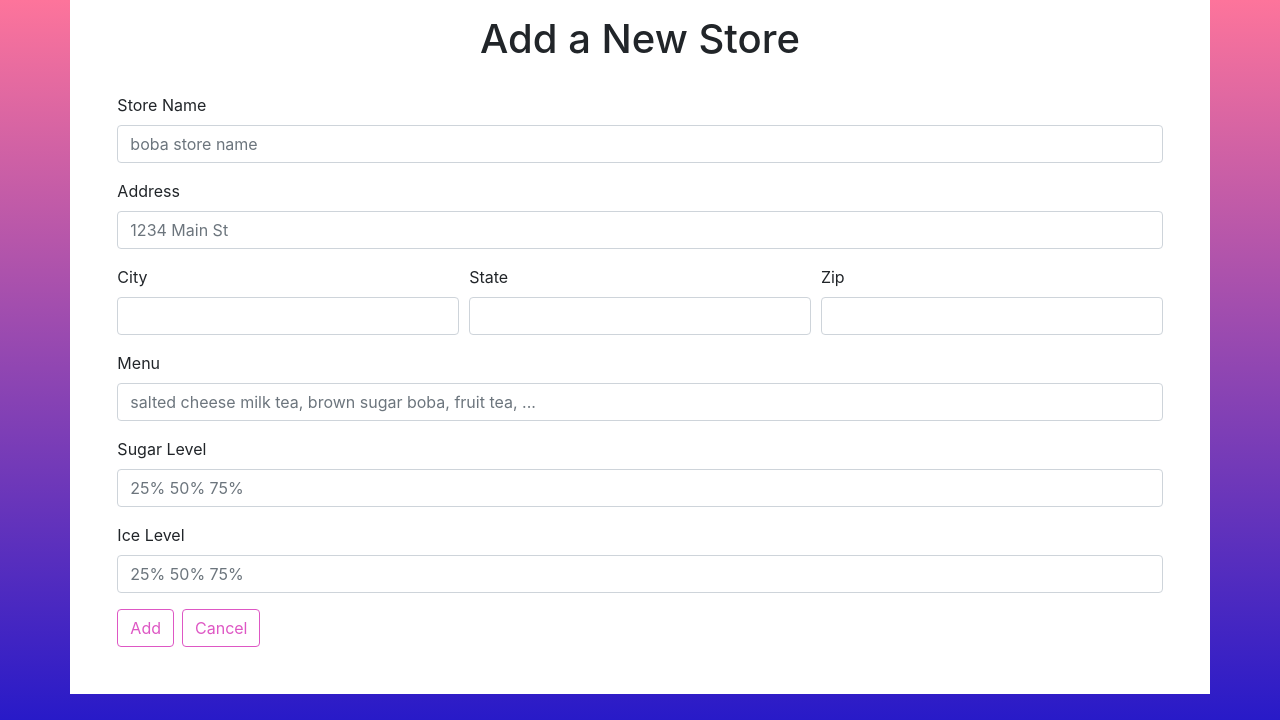
Test case: Testing Add a New Store Page › Not submitting form with invalid inputs › zip is empty
(page scrolled)
Click the link with class "storeAddButton" at (146, 628), box [117,609,174,647]
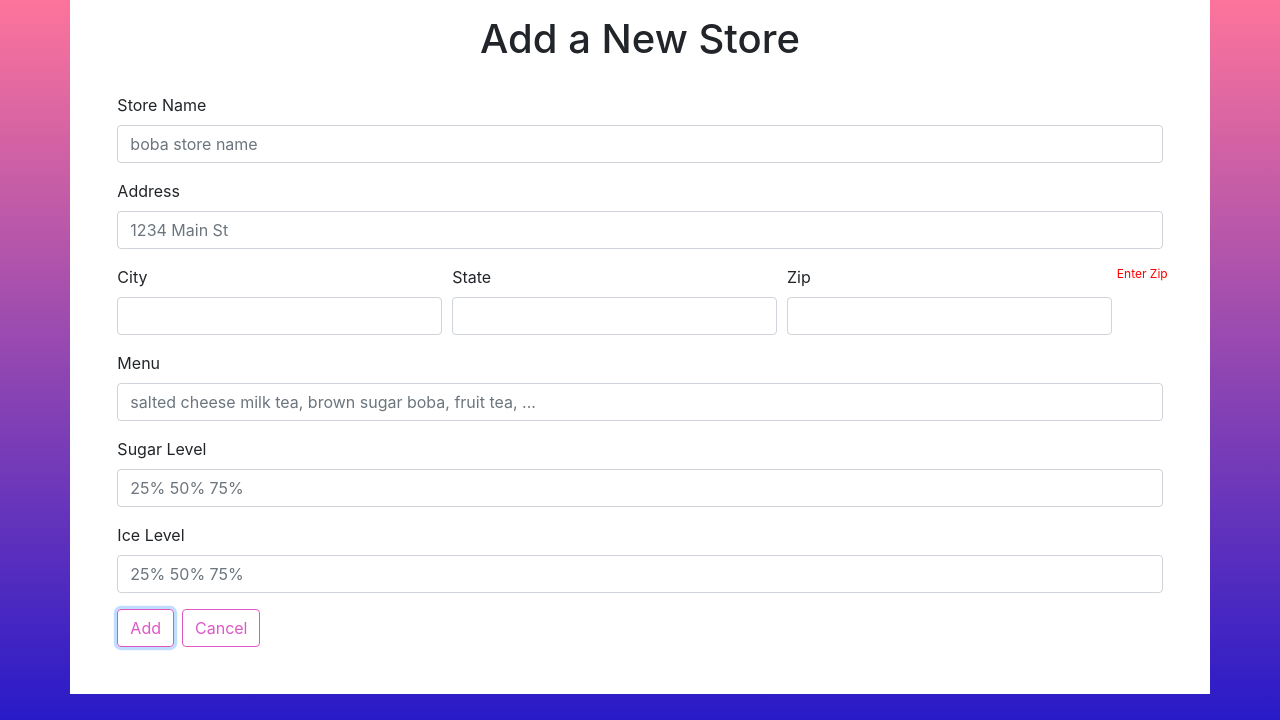
expect the text "Enter Zip" is shown: met, box [1117,266,1168,281]
